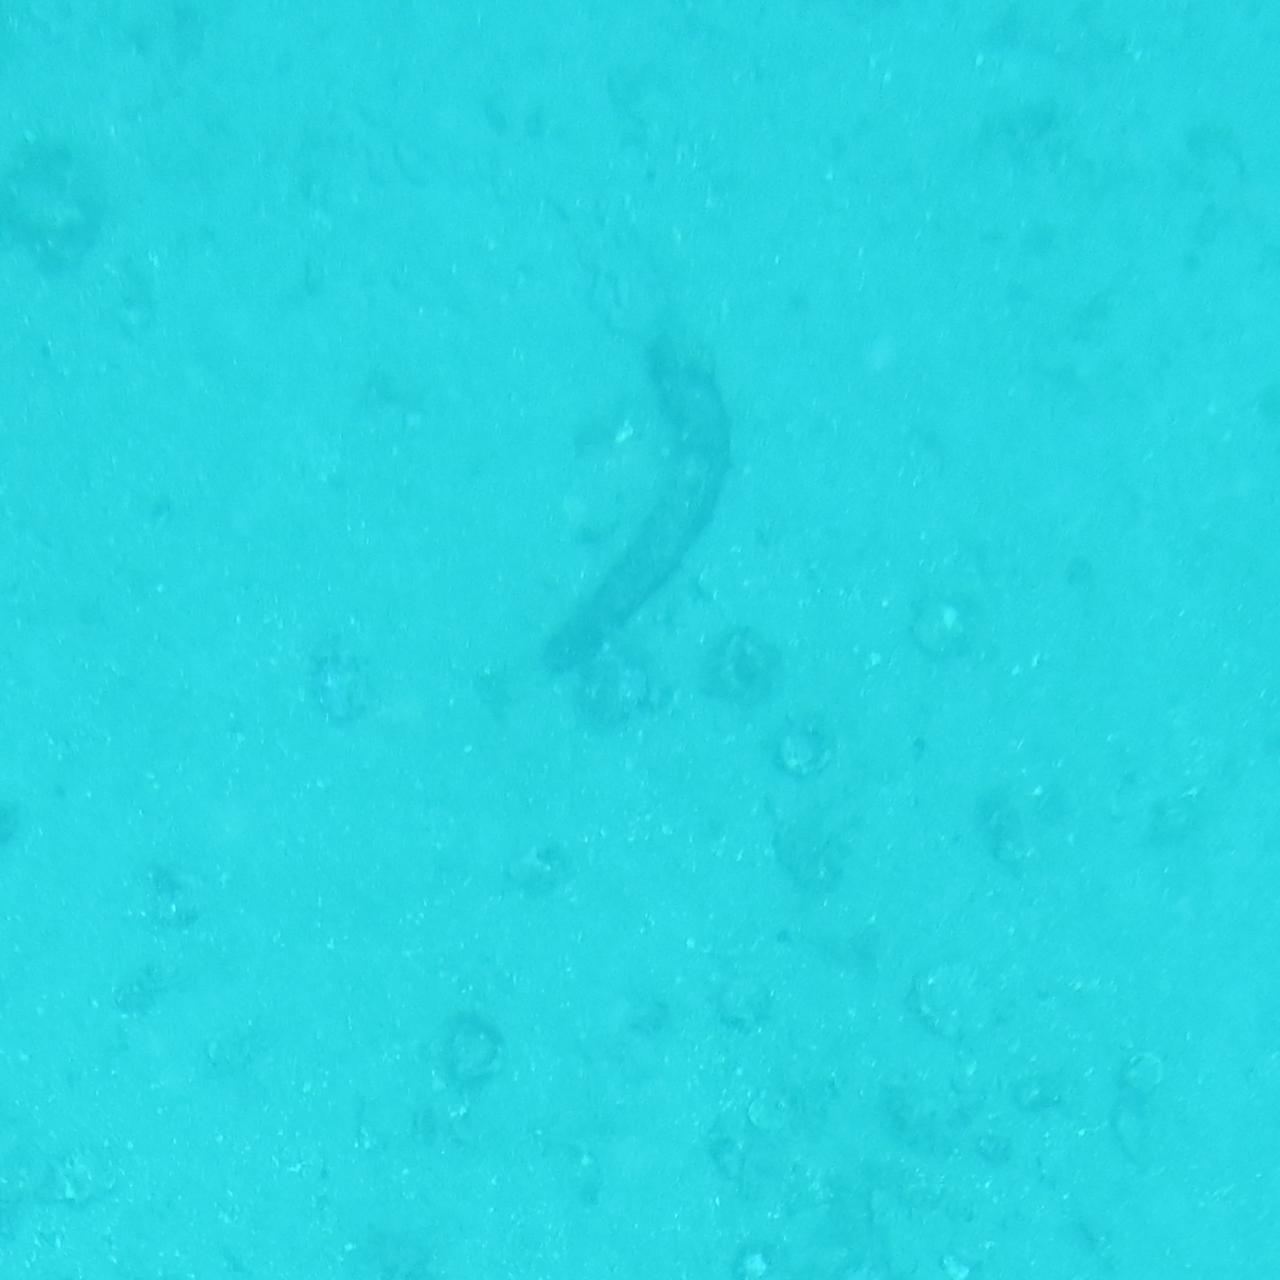Holothuria tubulosa: (531, 320, 749, 687)
